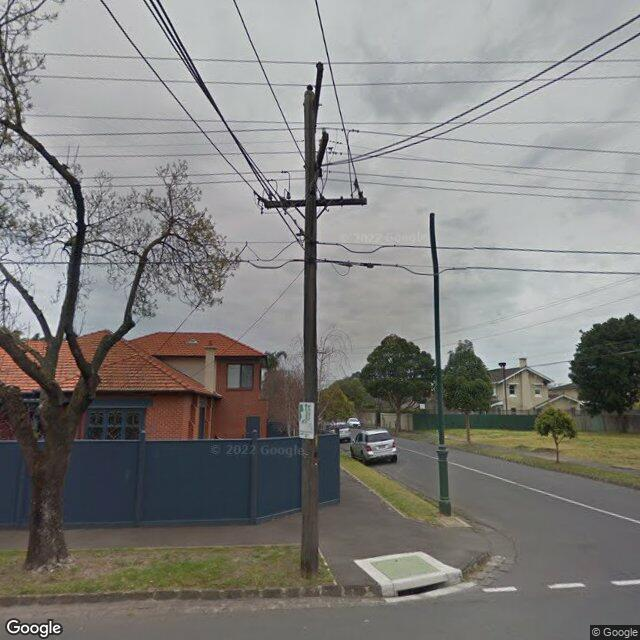crossarm: (260, 188, 368, 218), (318, 126, 360, 178), (314, 60, 329, 134)
timber-pole: (300, 89, 320, 578)
